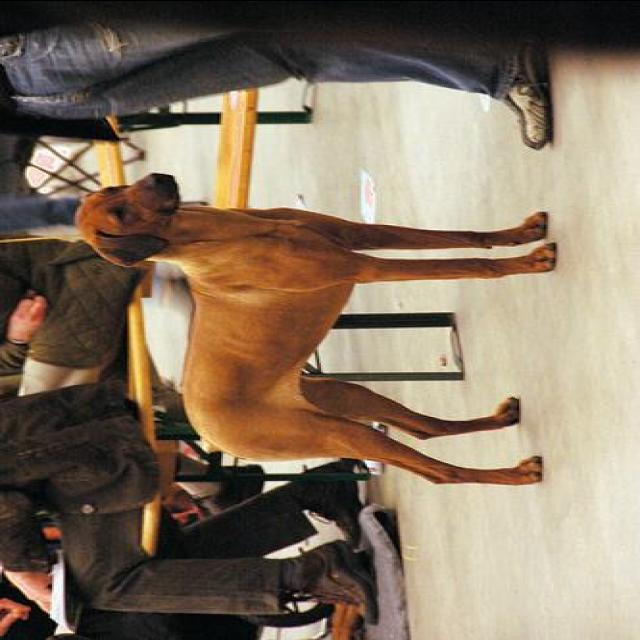rhodesian_ridgeback: (71, 170, 561, 488)
